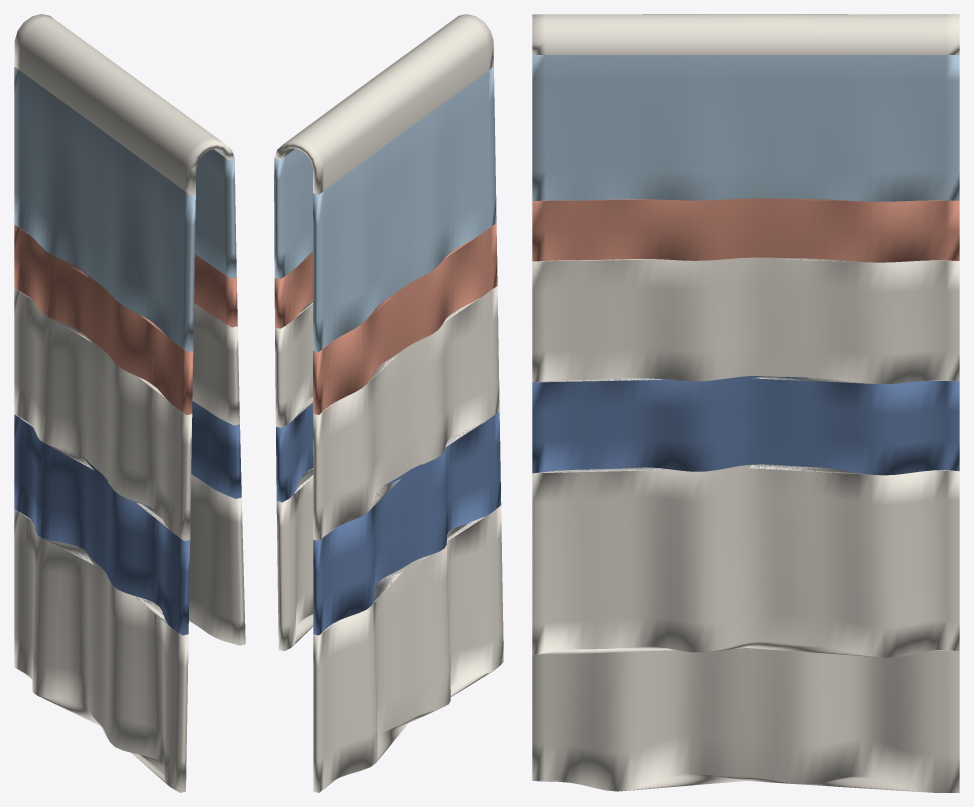
The model's file is striped_towel.glb.
The picture shows the model from 3 angles, left to right: view 1: azimuth 30°, elevation 25°; view 2: azimuth 150°, elevation 25°; view 3: azimuth 270°, elevation 25°; orthographic projection. The views are drawn at different scales.
Visible parts, largest first — view 1: StripedTowel_Band_0, StripedTowel_Band_3, StripedTowel_Band_1, StripedTowel_Band_2; view 2: StripedTowel_Band_0, StripedTowel_Band_3, StripedTowel_Band_1, StripedTowel_Band_2; view 3: StripedTowel_Band_0, StripedTowel_Band_3, StripedTowel_Band_1, StripedTowel_Band_2.
Boxes of the visible parts, <box> form: StripedTowel_Band_0: <box>14,14,245,792</box>; StripedTowel_Band_3: <box>14,67,236,352</box>; StripedTowel_Band_1: <box>14,401,241,635</box>; StripedTowel_Band_2: <box>14,224,237,415</box>; StripedTowel_Band_0: <box>274,14,503,792</box>; StripedTowel_Band_3: <box>274,66,496,351</box>; StripedTowel_Band_1: <box>276,396,501,635</box>; StripedTowel_Band_2: <box>274,223,497,414</box>; StripedTowel_Band_0: <box>532,14,959,792</box>; StripedTowel_Band_3: <box>532,55,959,201</box>; StripedTowel_Band_1: <box>532,375,959,475</box>; StripedTowel_Band_2: <box>532,198,959,262</box>.
Bounding box in the file's own units: 0.0719 × 0.5888 × 0.29.
